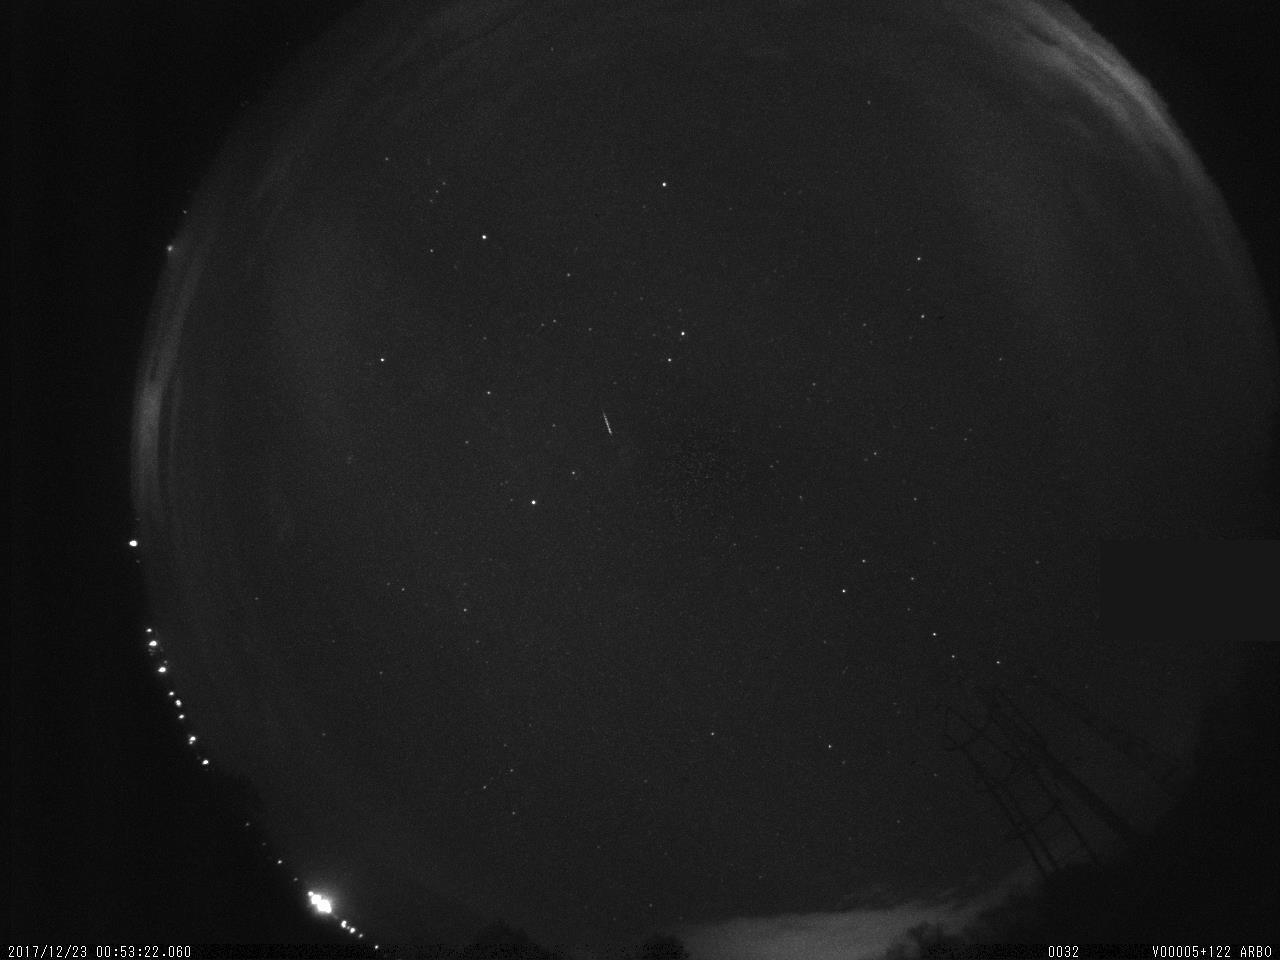meteor: (596, 405, 627, 436)
